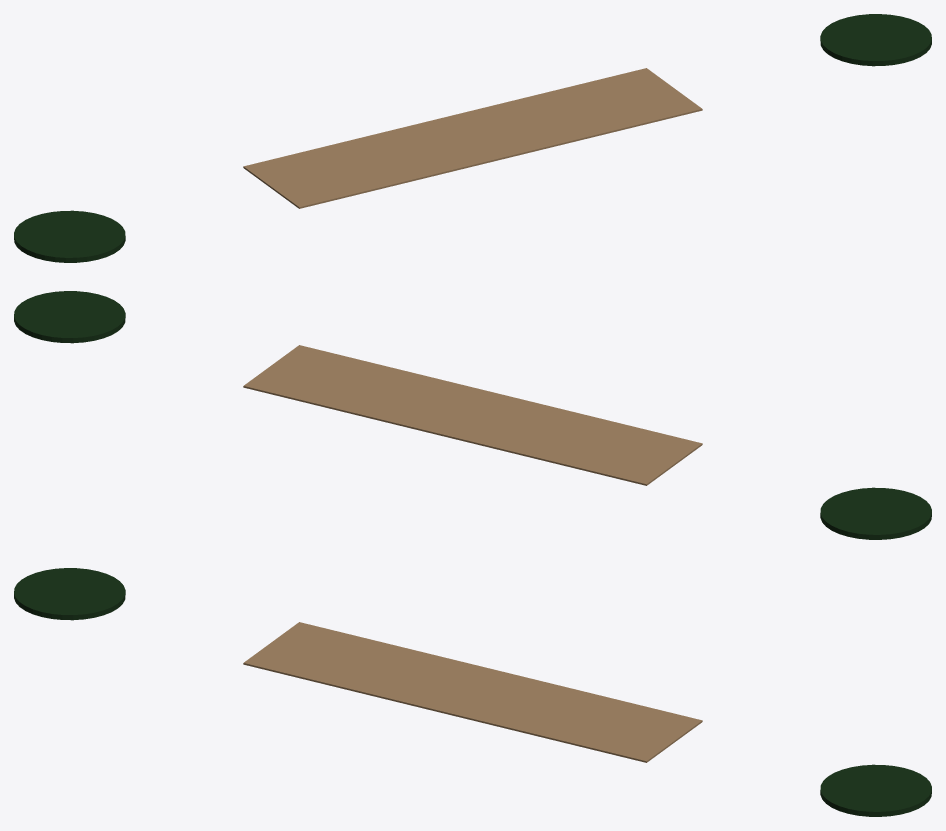
The model's file is straight_dormant.glb.
The picture shows the model from 3 angles, top to bottom: view 1: azimuth 30°, elevation 25°; view 2: azimuth 150°, elevation 25°; view 3: azimuth 330°, elevation 25°; orthographic projection.
Visible parts, largest first — view 1: Trace_Strip, Via_Left, Via_Right; view 2: Trace_Strip, Via_Left, Via_Right; view 3: Trace_Strip, Via_Left, Via_Right.
Boxes of the visible parts, x1,y1,x2,y2 form: Trace_Strip: (243, 68, 702, 208); Via_Left: (14, 210, 125, 262); Via_Right: (820, 14, 931, 66); Trace_Strip: (243, 345, 702, 485); Via_Left: (820, 487, 931, 539); Via_Right: (14, 291, 125, 343); Trace_Strip: (243, 622, 702, 762); Via_Left: (14, 568, 125, 620); Via_Right: (820, 764, 931, 816).
Size of the model in its own units: 1.12 by 0.006 by 0.12.
